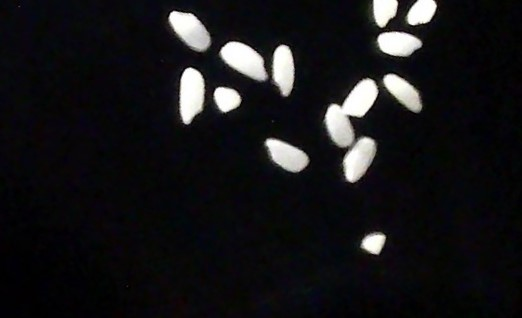broken_grain: (342, 74, 381, 119), (365, 1, 400, 30), (212, 86, 242, 115), (403, 1, 442, 23), (357, 231, 388, 257)
complete_grain: (218, 38, 269, 84), (166, 7, 212, 54), (175, 66, 208, 129), (340, 138, 382, 185), (381, 72, 426, 114), (263, 135, 310, 175), (270, 41, 296, 100), (322, 102, 355, 148), (374, 29, 424, 58)
